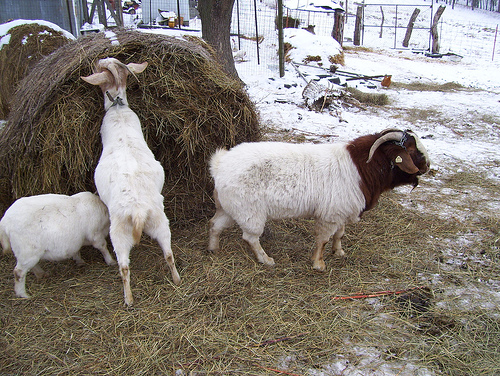goat: (204, 127, 432, 272), (80, 56, 182, 306), (1, 192, 115, 299)
